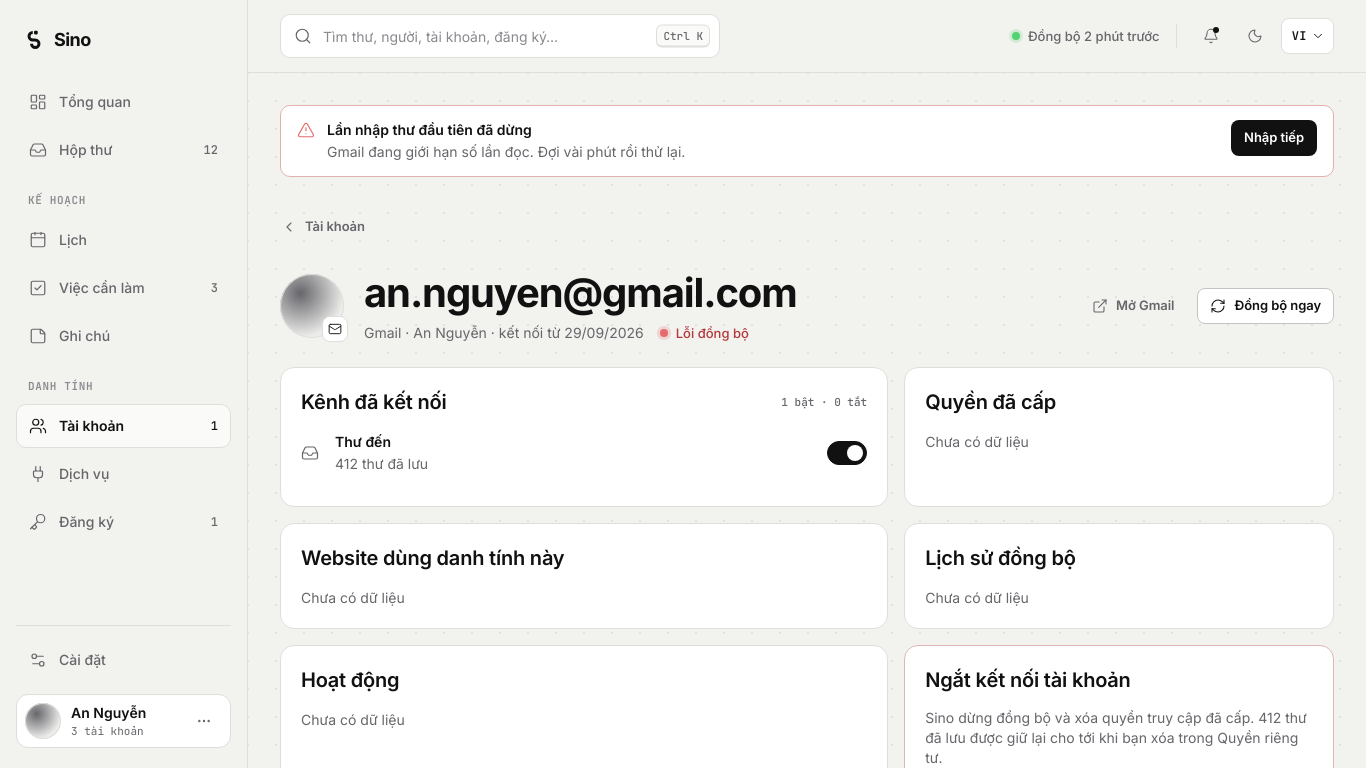
Test case: the first import on the Tài khoản pages (FE-52) › goes on with an import that stopped, on its range, from the detail
Check: the text "Gmail đang giới hạn số lần đọc. Đợi vài phút rồi thử lại." is shown, box top-left (327, 143), bottom-right (685, 160)
Click the button "Nhập tiếp": (1274, 138) top-left (1231, 120), bottom-right (1317, 156)
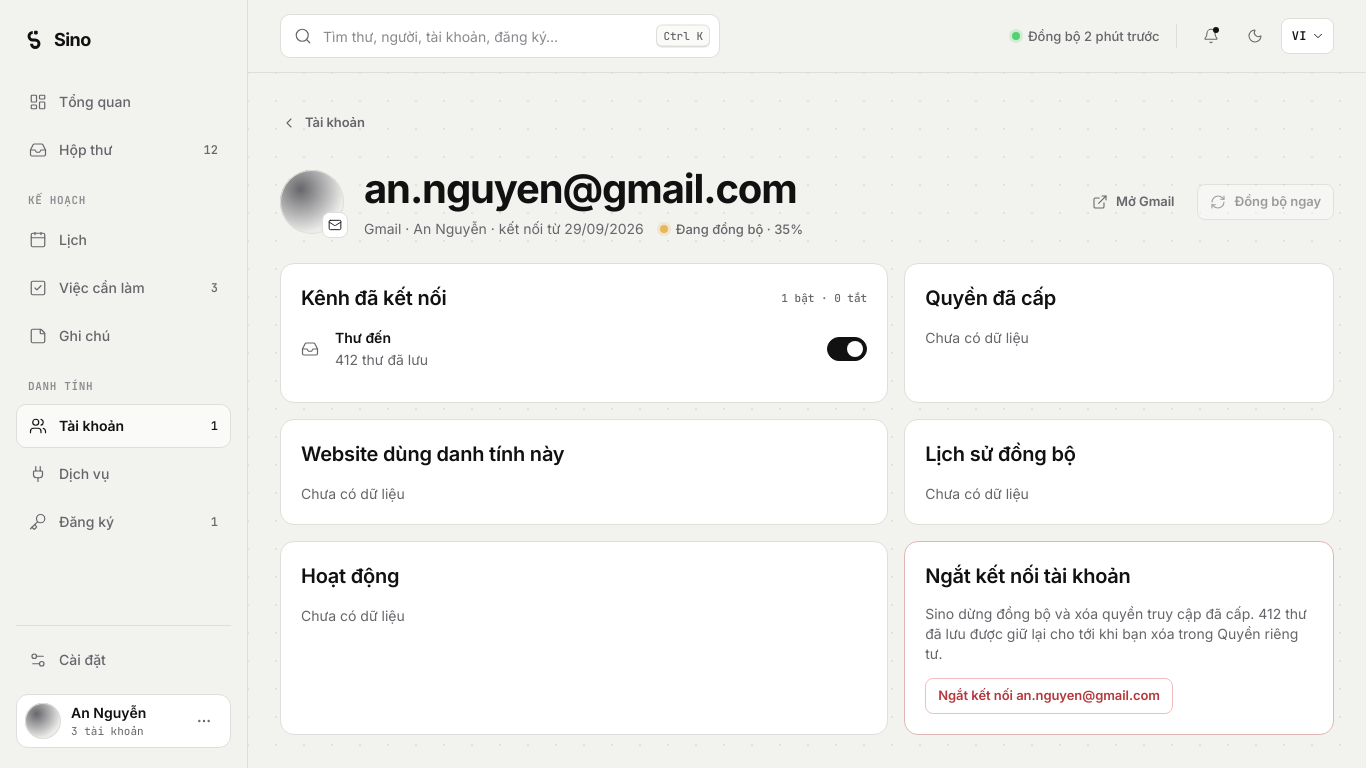
Check: the button "Đồng bộ ngay" is disabled, box top-left (1197, 184), bottom-right (1334, 220)
Check: the text "Gmail đang giới hạn số lần đọc. Đợi vài phút rồi thử lại." is gone
